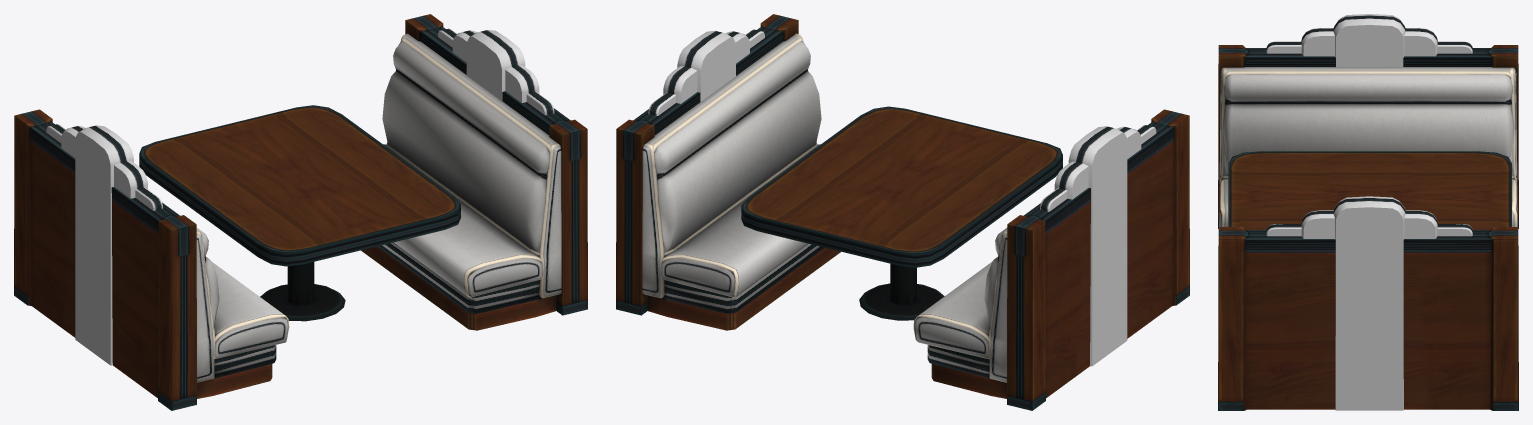
The model's file is Table_Booth_B.obj.
3 renders of one model, left to right at view 1: azimuth 30°, elevation 25°; view 2: azimuth 150°, elevation 25°; view 3: azimuth 270°, elevation 25°, orthographic. The views are drawn at different scales.
Visible parts, largest first — view 1: Table_Booth_B; view 2: Table_Booth_B; view 3: Table_Booth_B.
Boxes of the visible parts, x1=… form: Table_Booth_B: x1=14, y1=14, x2=587, y2=410; Table_Booth_B: x1=616, y1=14, x2=1189, y2=410; Table_Booth_B: x1=1218, y1=14, x2=1518, y2=410.
Bounding box in the file's own units: 511 × 253 × 335.
Materials: 1 (1 with a texture image).
